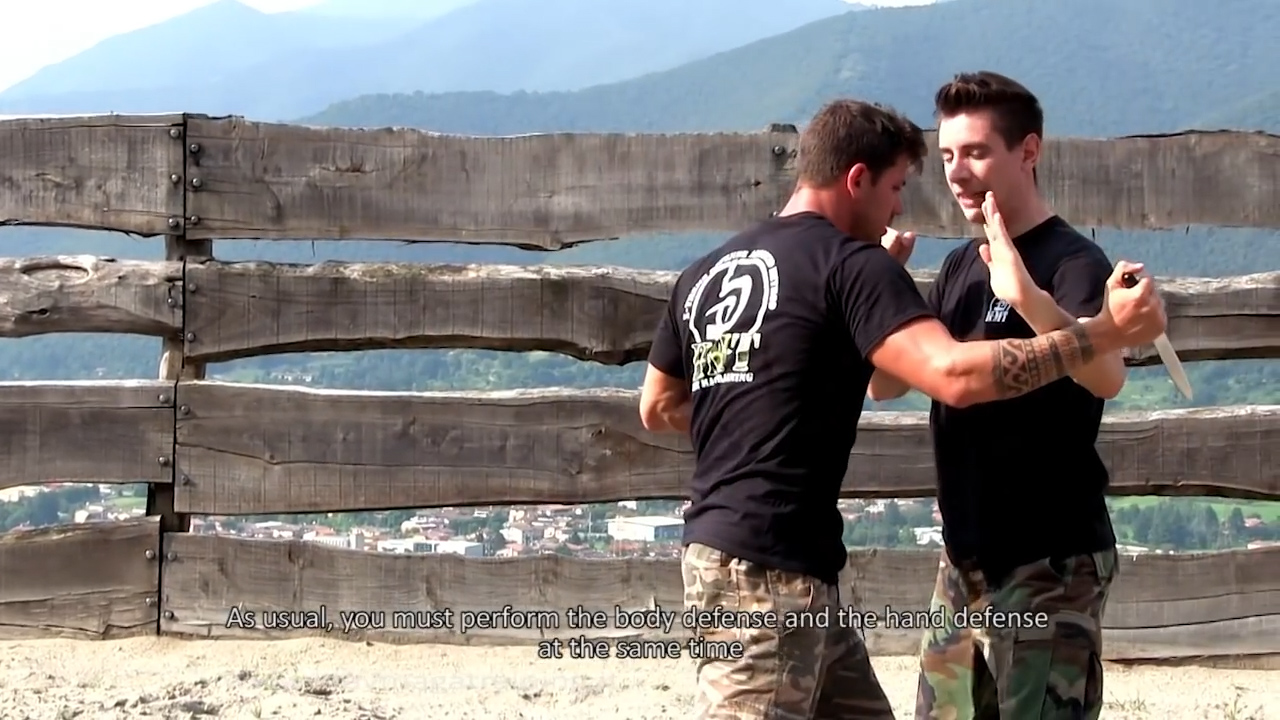knife: (1104, 256, 1196, 406)
